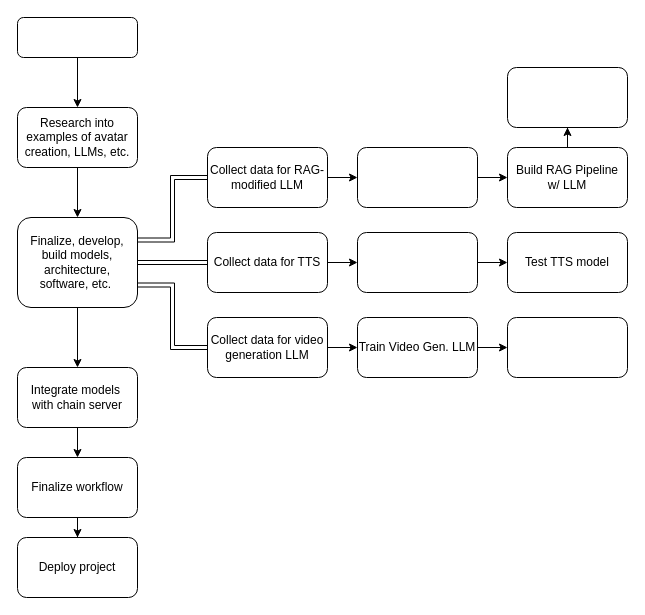
Image size: 645x615. Some labels were removed from this diagram. The centre of each missing label's shape, as x and y in pixels:
Data-preprocessing: the point at 417,177
Plan the goals of the avatar: the point at 77,37
Test avatar generation model: the point at 567,347
Test RAG-modified LLM: the point at 567,97
Train the TTS model: the point at 417,262
